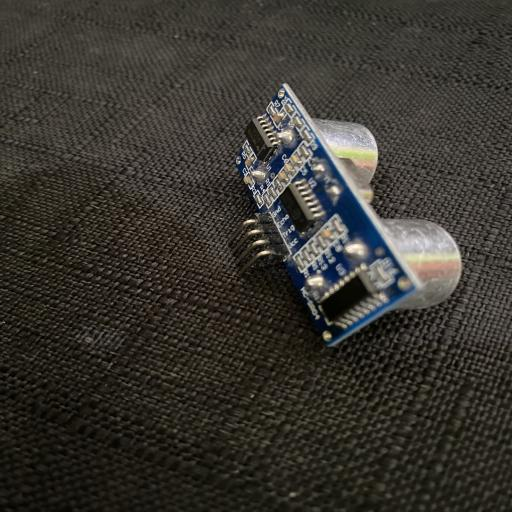Ultrasonic Sensor: (232, 81, 462, 348)
